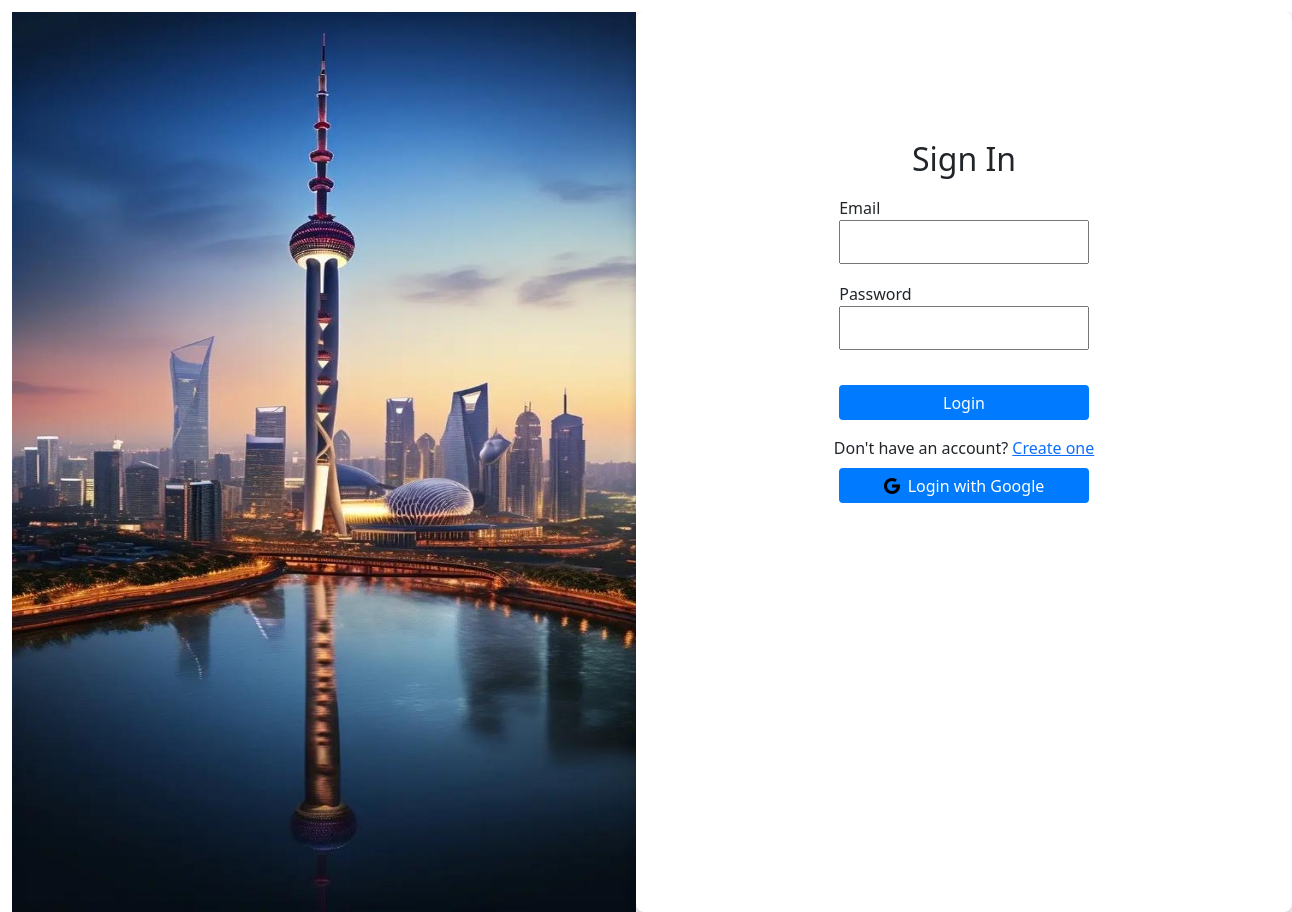
Test: Login Component › should show an error if server is unavailable during login
The width and height of the screenshot is (1292, 912).
In the field labelled "Email": (964,242) x1=839 y1=220 x2=1089 y2=264, type "user@example.com"
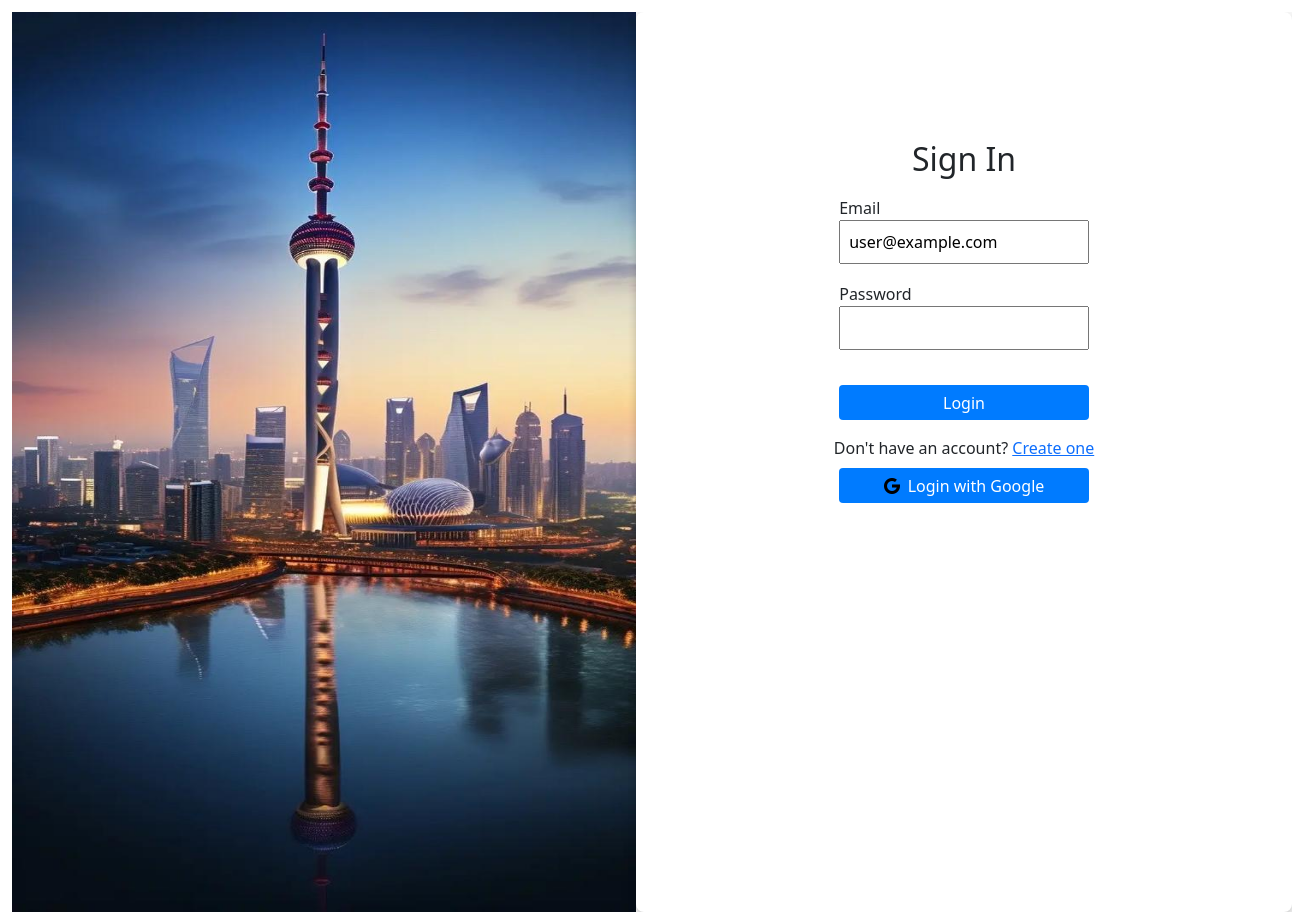
In the password field labelled "Password": (964,328) x1=839 y1=306 x2=1089 y2=350, type "password123"
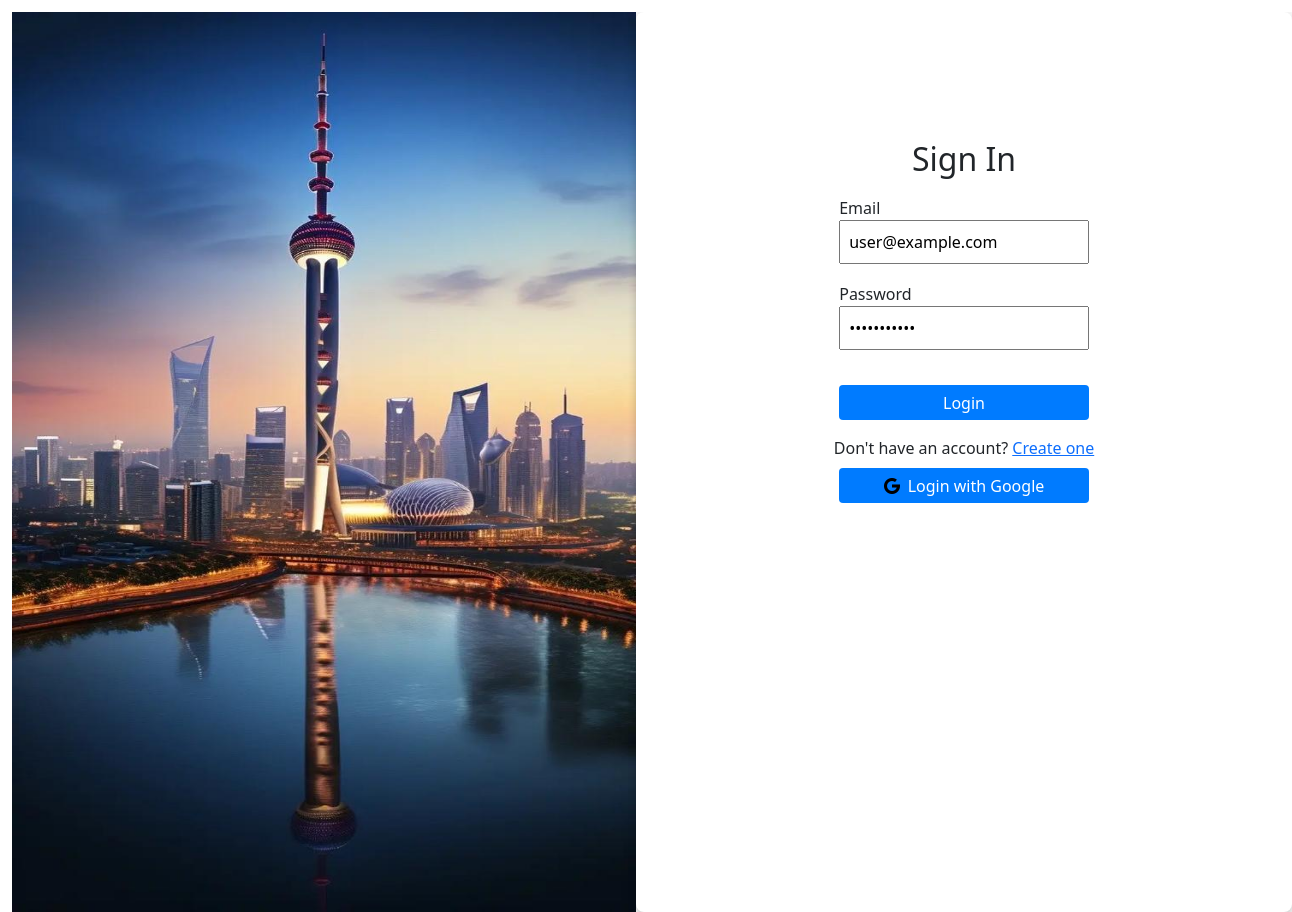
Click the button "Login": (964,403) x1=839 y1=385 x2=1089 y2=420
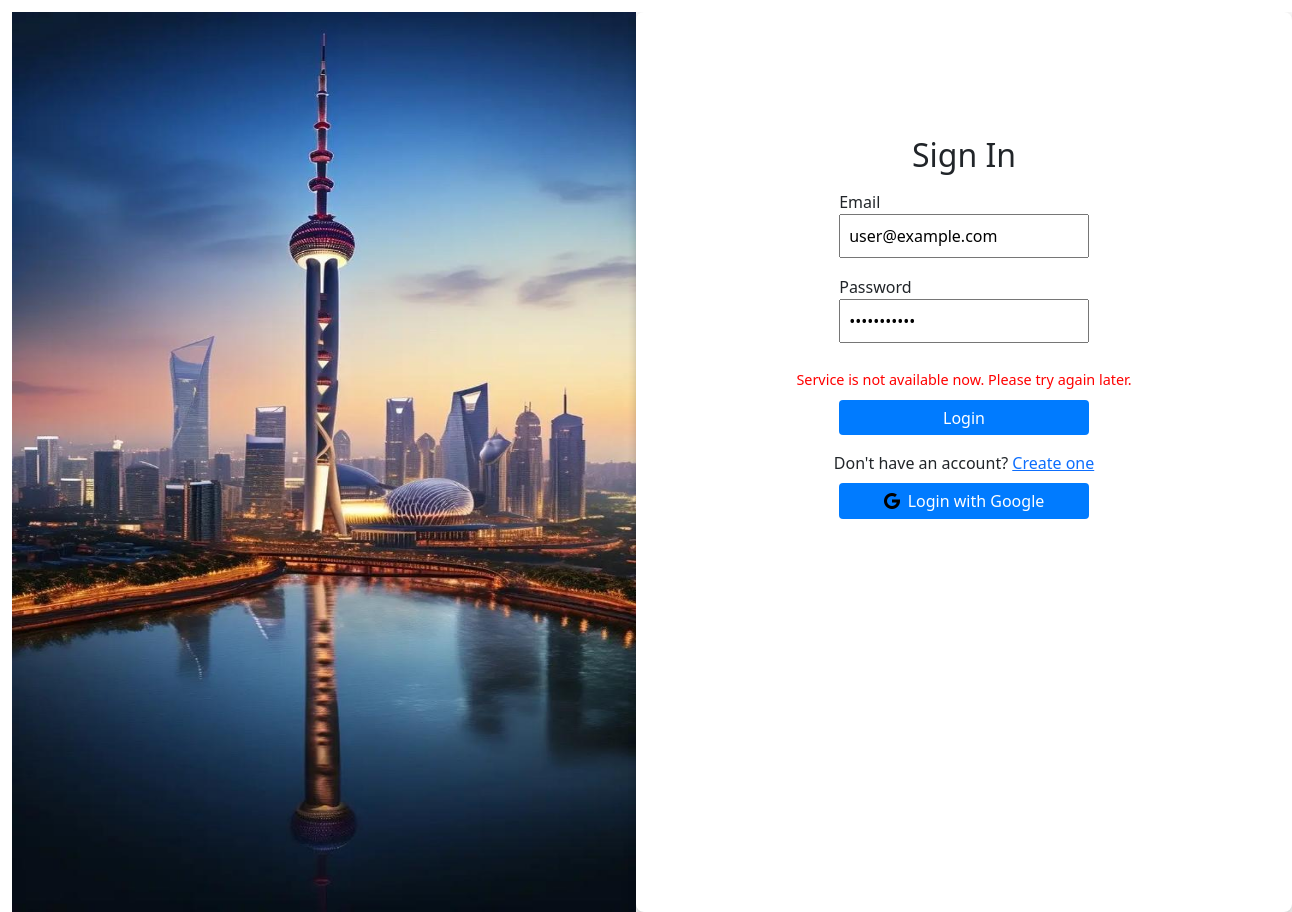
Now the text "Service is not available now. Please try again later." is shown, box x1=796 y1=369 x2=1132 y2=391
